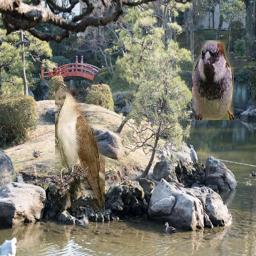Cuckoo: (55, 81, 105, 211)
Sparrow: (192, 40, 234, 120)
